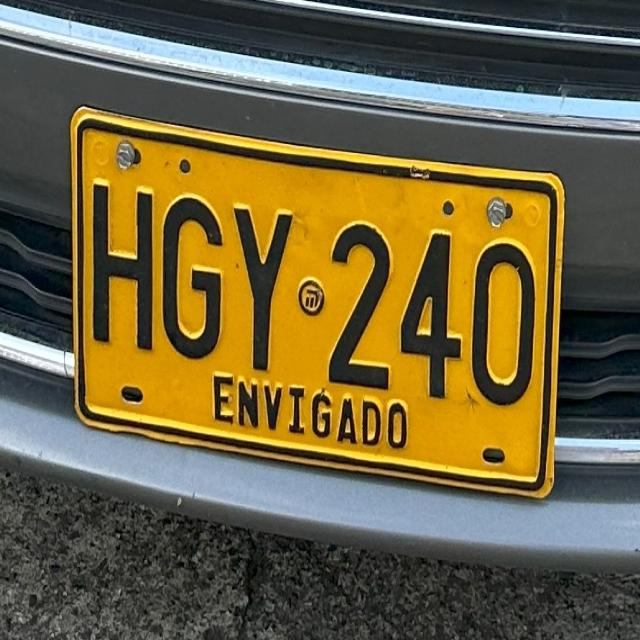number plate: (70, 107, 562, 494)
